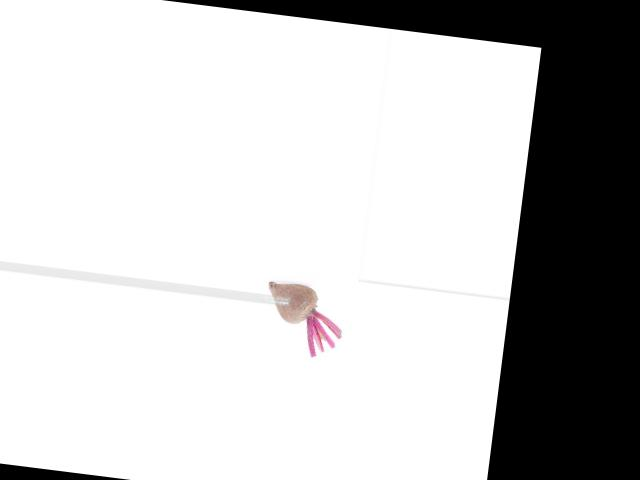beet: (259, 280, 347, 360)
